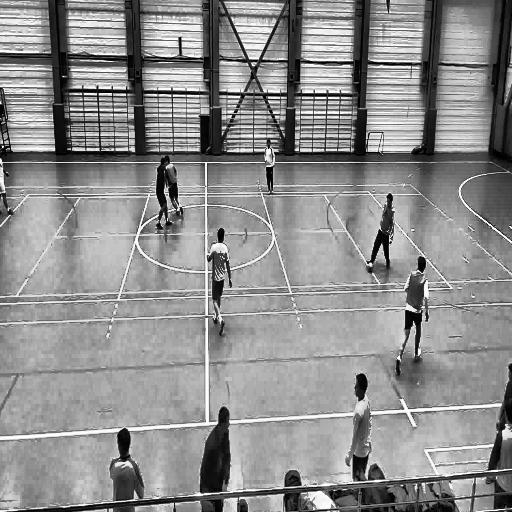ball: (366, 260, 375, 277)
player: (392, 254, 430, 379), (204, 227, 234, 340), (364, 193, 395, 272), (165, 152, 186, 216), (154, 159, 172, 230), (0, 139, 16, 216), (261, 135, 277, 200)
